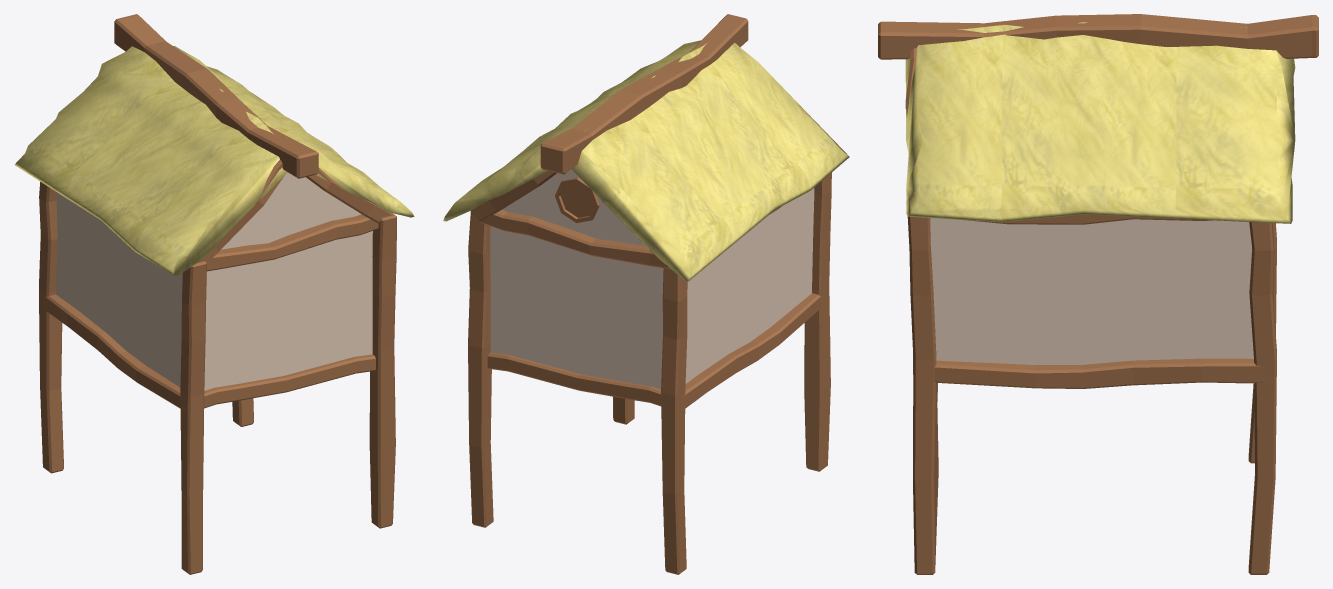
Rendered from House_Alt_High.fbx.
The picture shows the model from 3 angles, left to right: view 1: azimuth 30°, elevation 25°; view 2: azimuth 150°, elevation 25°; view 3: azimuth 270°, elevation 25°; orthographic projection. The views are drawn at different scales.
Parts seen in each view (by area): view 1: House_Alt_High; view 2: House_Alt_High; view 3: House_Alt_High.
Part boxes in pixels (x1,y1,x2,y2): House_Alt_High: (14, 14, 414, 574); House_Alt_High: (443, 14, 849, 574); House_Alt_High: (878, 14, 1318, 574).
Bounding box in the file's own units: 525 × 857 × 690.
